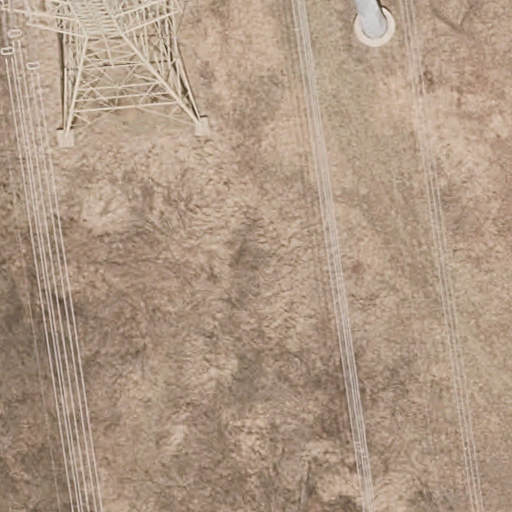TT: (1, 1, 209, 148), (350, 1, 397, 47)
